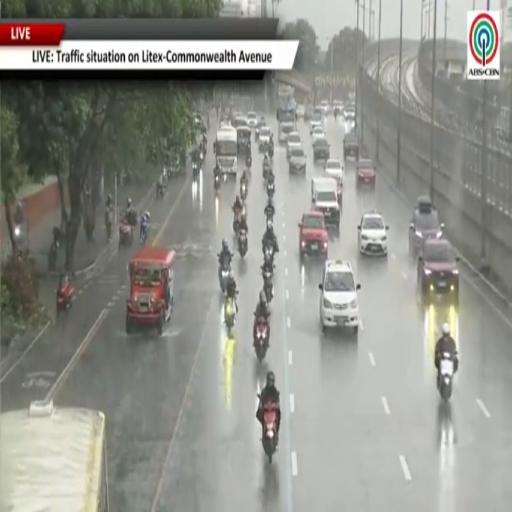bus: (0, 402, 109, 511), (215, 124, 237, 175)
car: (319, 261, 360, 333), (417, 238, 459, 302), (409, 197, 444, 257), (312, 180, 340, 229), (299, 211, 327, 258), (358, 212, 388, 255), (357, 158, 375, 186), (325, 158, 344, 184), (289, 147, 306, 174), (343, 131, 359, 159), (313, 138, 329, 162), (287, 132, 301, 158), (258, 126, 271, 151), (310, 111, 323, 133), (255, 117, 266, 141), (312, 126, 326, 144), (342, 102, 356, 120), (232, 117, 247, 129), (247, 111, 257, 129), (231, 111, 244, 124), (319, 101, 330, 116), (304, 105, 313, 121), (296, 104, 305, 118)
motorcycle: (262, 403, 278, 463), (438, 352, 456, 401), (254, 317, 269, 361), (57, 281, 74, 315), (48, 228, 61, 270), (262, 267, 273, 303), (119, 222, 134, 248), (225, 298, 235, 332), (48, 240, 59, 270), (219, 263, 230, 292), (238, 230, 247, 258), (105, 208, 112, 241), (140, 224, 149, 245), (233, 212, 241, 234), (192, 162, 200, 180), (337, 179, 342, 206), (267, 182, 275, 198), (240, 182, 247, 200), (156, 184, 164, 199), (214, 174, 220, 191), (263, 164, 269, 180), (266, 212, 273, 225), (246, 154, 252, 168), (268, 142, 273, 158)
truck: (277, 88, 296, 142)
